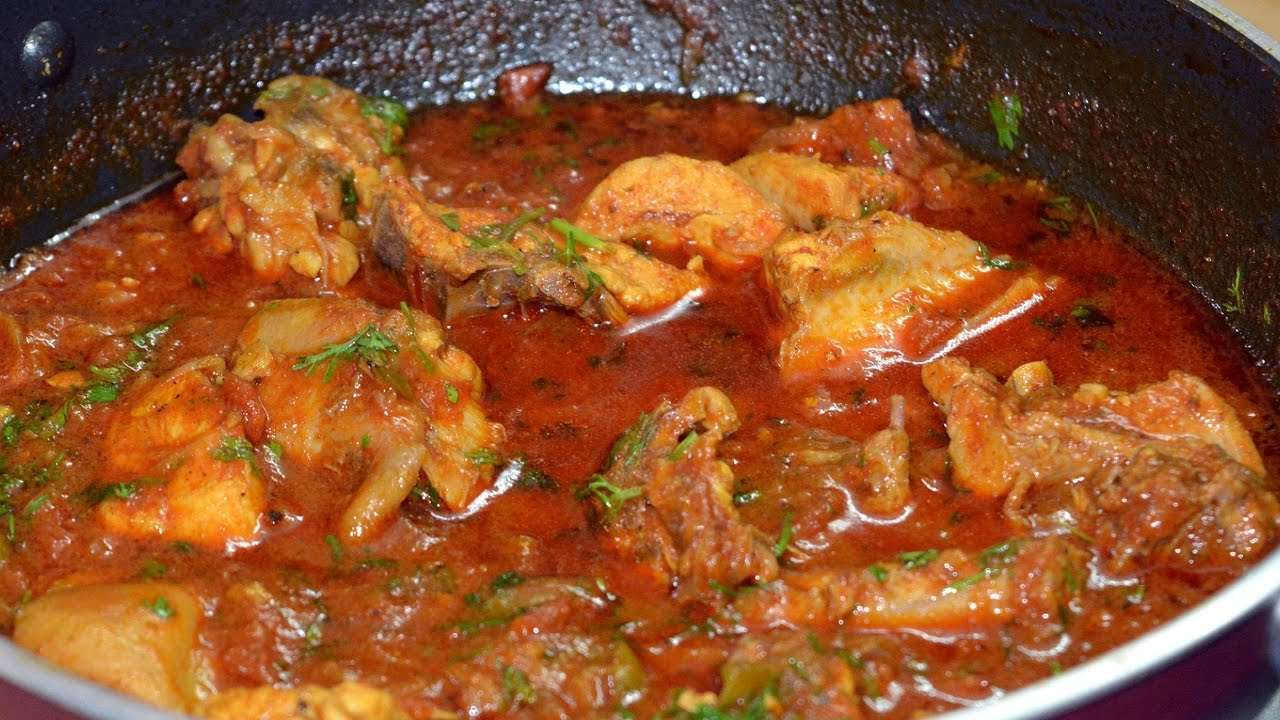chicken_curry: (49, 89, 1231, 696)
